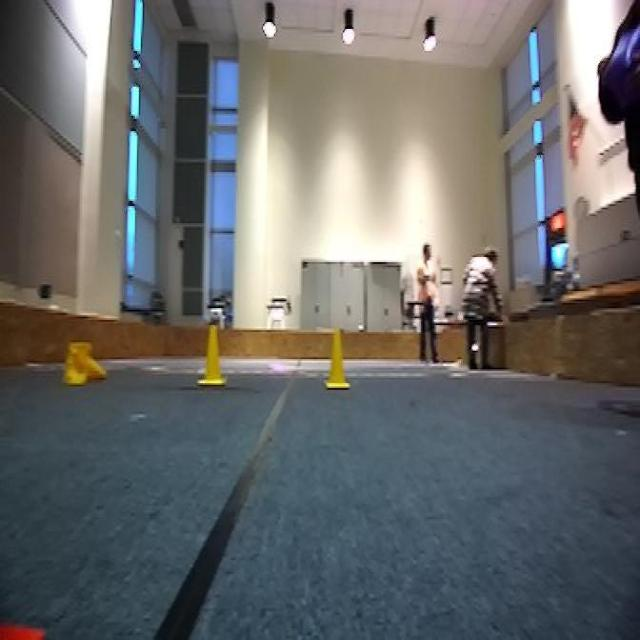frc_cone: (64, 339, 108, 388), (198, 322, 228, 388), (324, 330, 351, 392)
frc_cube: (598, 27, 640, 126)
